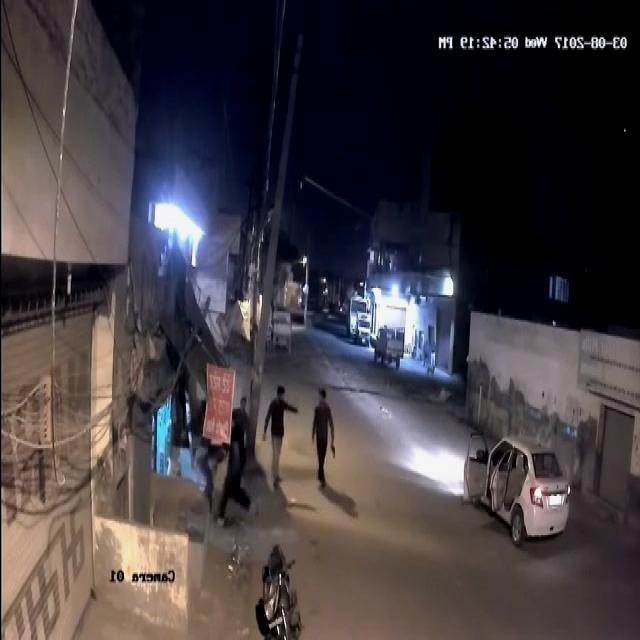fight: (189, 389, 251, 539), (262, 384, 337, 492)
